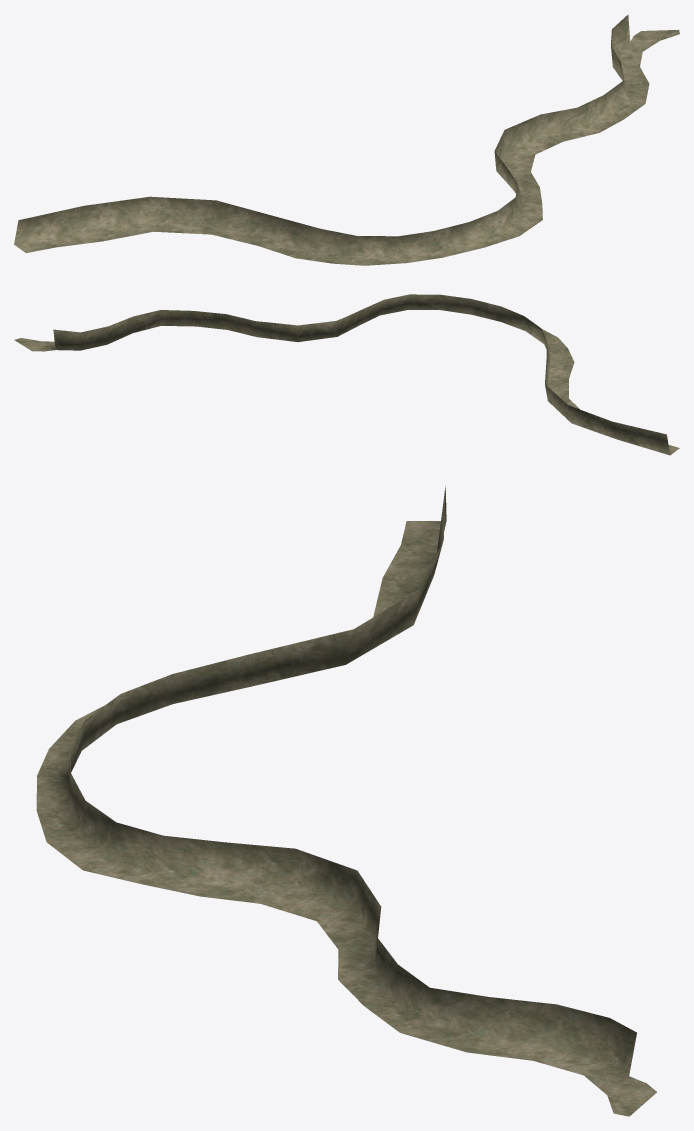
Rendered from EKH_GROTTO_PS_GR_GROTTO_CAVE_TRIM_01.fbx.
3 renders of one model, top to bottom at view 1: azimuth 30°, elevation 25°; view 2: azimuth 150°, elevation 25°; view 3: azimuth 270°, elevation 25°, orthographic. The views are drawn at different scales.
Visible parts, largest first — view 1: EKH_GROTTO_PS_GR_GROTTO_CAVE_TRIM_01; view 2: EKH_GROTTO_PS_GR_GROTTO_CAVE_TRIM_01; view 3: EKH_GROTTO_PS_GR_GROTTO_CAVE_TRIM_01.
Part boxes in pixels (x1=…): EKH_GROTTO_PS_GR_GROTTO_CAVE_TRIM_01: x1=14, y1=14, x2=679, y2=265; EKH_GROTTO_PS_GR_GROTTO_CAVE_TRIM_01: x1=14, y1=294, x2=679, y2=455; EKH_GROTTO_PS_GR_GROTTO_CAVE_TRIM_01: x1=36, y1=486, x2=656, y2=1116.
Size of the model in its own units: 251227 by 8623 by 110623.
Materials: 1 (1 with a texture image).
